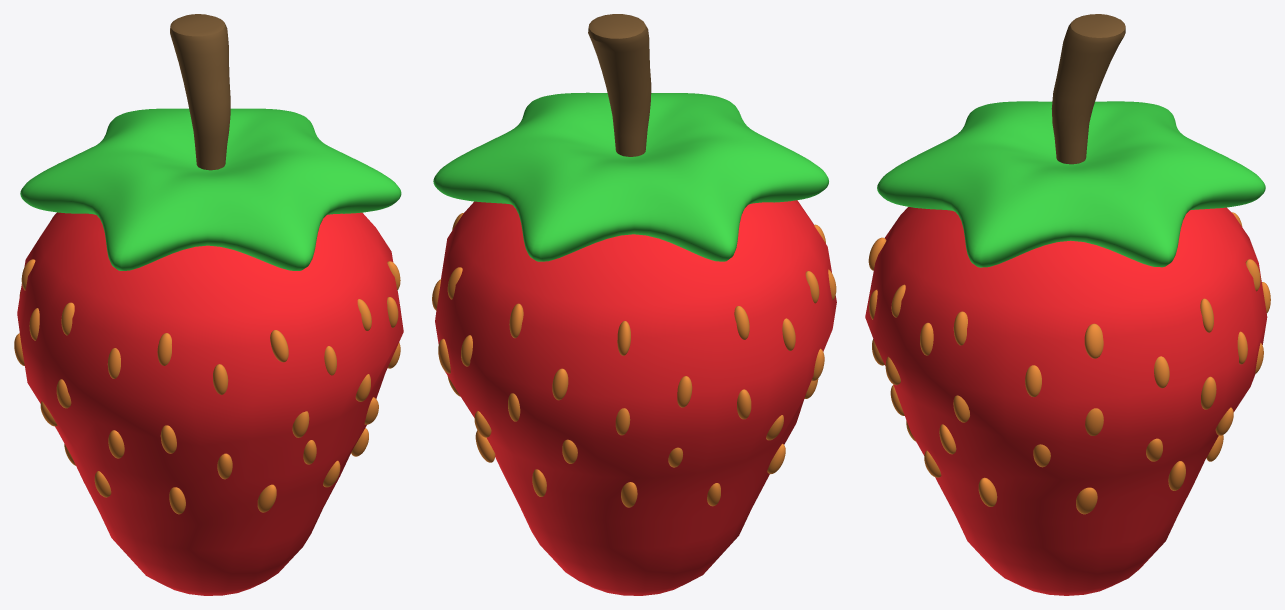
File: caomei.fbx
3 views of the same model, side by side, from view 1: azimuth 30°, elevation 25°; view 2: azimuth 150°, elevation 25°; view 3: azimuth 270°, elevation 25° (orthographic). The views are drawn at different scales.
Parts seen in each view (by area): view 1: pSphere13, pSphere14, pCylinder50; view 2: pSphere13, pSphere14, pCylinder50; view 3: pSphere13, pSphere14, pCylinder50, pSphere16.
Part boxes in pixels (left/top/right/bottom): pSphere13: left=17, top=212, right=403, bottom=595; pSphere14: left=20, top=108, right=401, bottom=270; pCylinder50: left=170, top=14, right=230, bottom=170; pSphere13: left=435, top=200, right=836, bottom=595; pSphere14: left=433, top=92, right=828, bottom=261; pCylinder50: left=588, top=14, right=651, bottom=156; pSphere13: left=865, top=207, right=1267, bottom=595; pSphere14: left=877, top=101, right=1265, bottom=267; pCylinder50: left=1051, top=14, right=1125, bottom=164; pSphere16: left=1084, top=323, right=1103, bottom=358.
Bounding box in the file's own units: 1.27 × 1.3 × 2.
